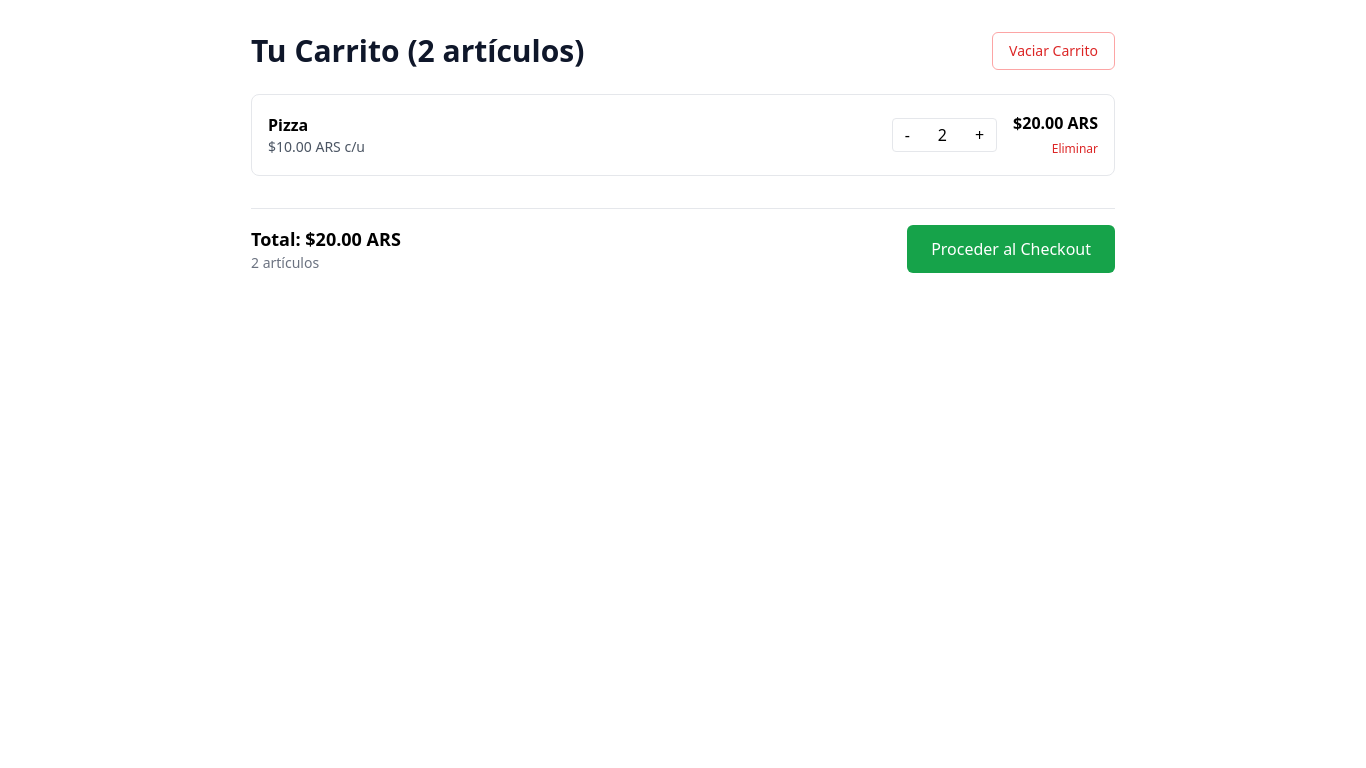
Test case: CartPage › hides confirmation modal when Cancelar is clicked
This screenshot has width=1366, height=768.
What coordinates should you click on to do the following:
click the button "Vaciar Carrito"
I would click on:
 (1054, 51)
Its box is x1=992 y1=32 x2=1115 y2=70.
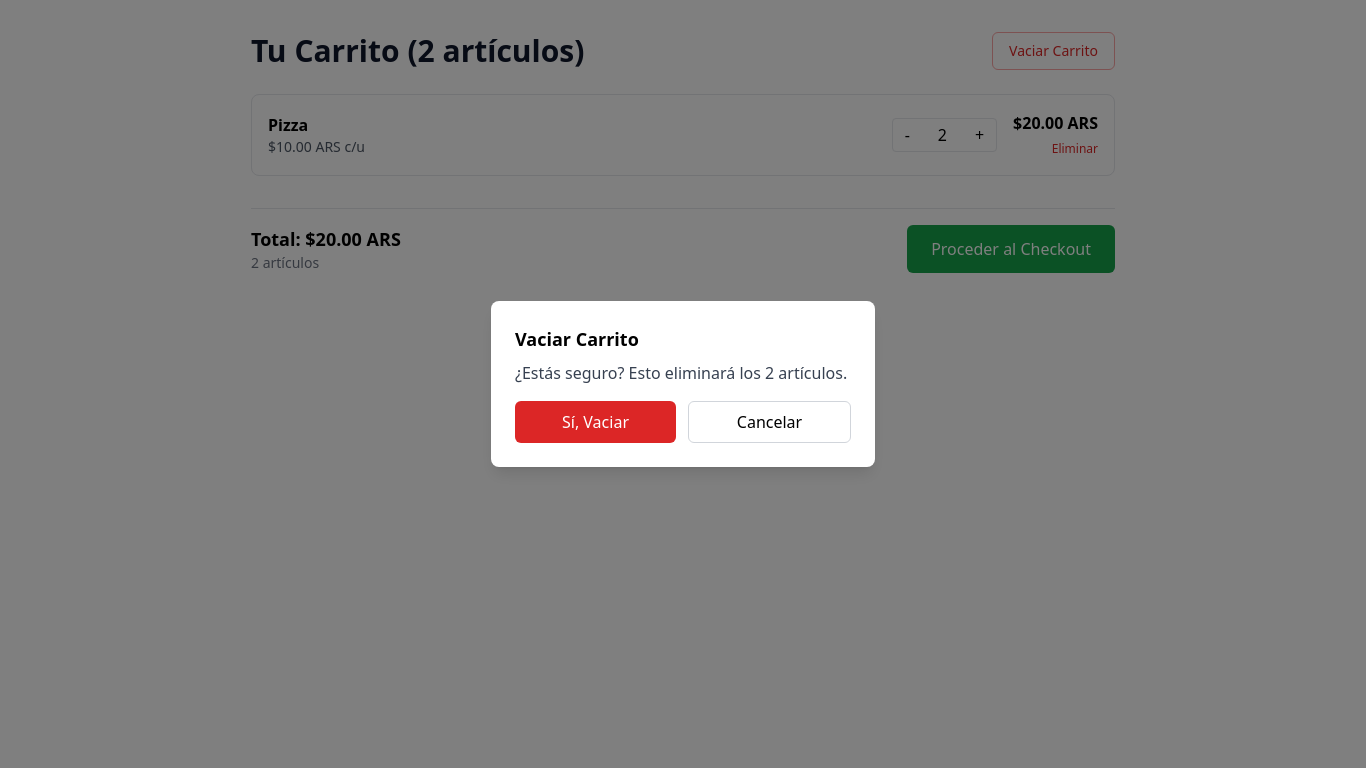
What coordinates should you click on to do the following:
click the button "Cancelar"
I would click on:
 (770, 422)
Its box is x1=688 y1=401 x2=851 y2=443.
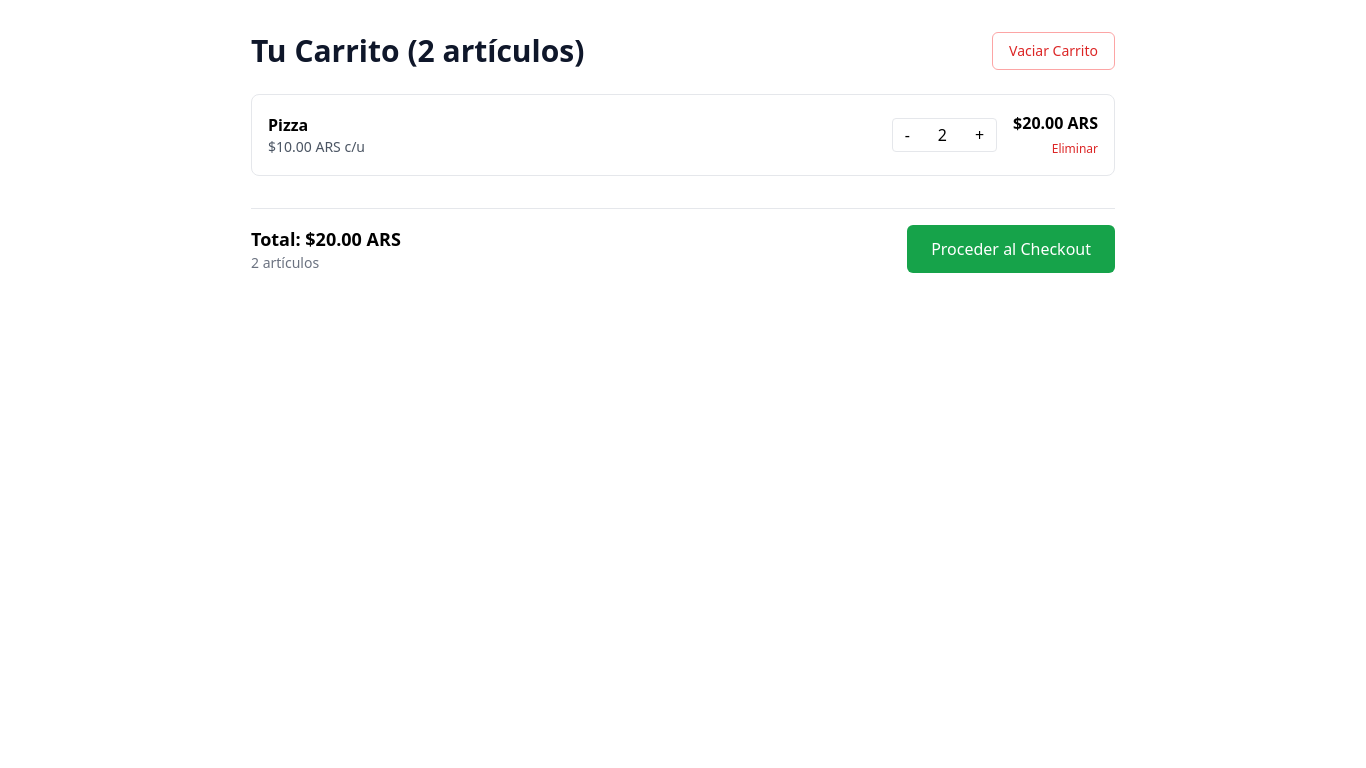
Check: the button "Sí, Vaciar" is gone
